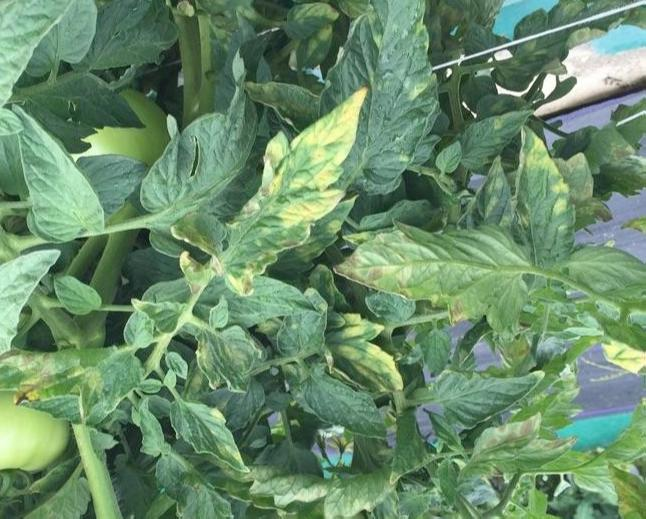Tomato mold leaf: (218, 88, 372, 281), (343, 216, 554, 342), (16, 103, 112, 249), (0, 0, 97, 117), (418, 362, 557, 437), (0, 347, 135, 419), (506, 128, 566, 276), (0, 242, 62, 354), (194, 316, 268, 393), (558, 244, 646, 303)
